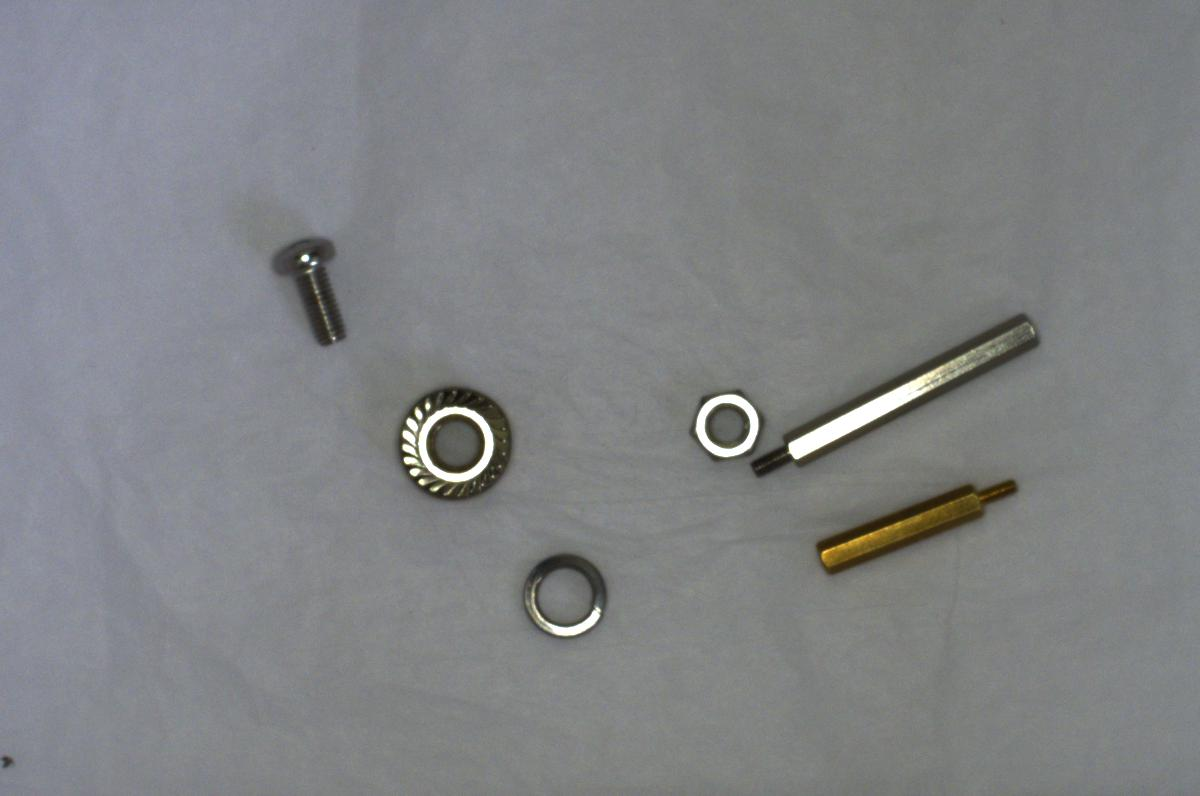Flange nut: (388, 373, 519, 510)
Hexagon nut: (678, 381, 761, 462)
Hexagon pillar: (811, 472, 1024, 574)
Hexagonal steel column: (740, 306, 1045, 481)
Round head screw: (273, 225, 351, 350)
Spring washer: (517, 549, 607, 640)
